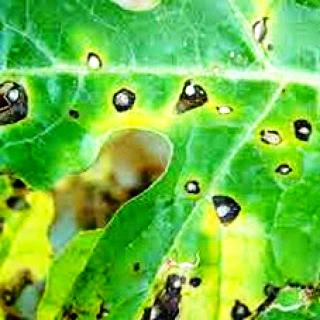leaf spot: (1, 44, 312, 178), (79, 255, 320, 320)
